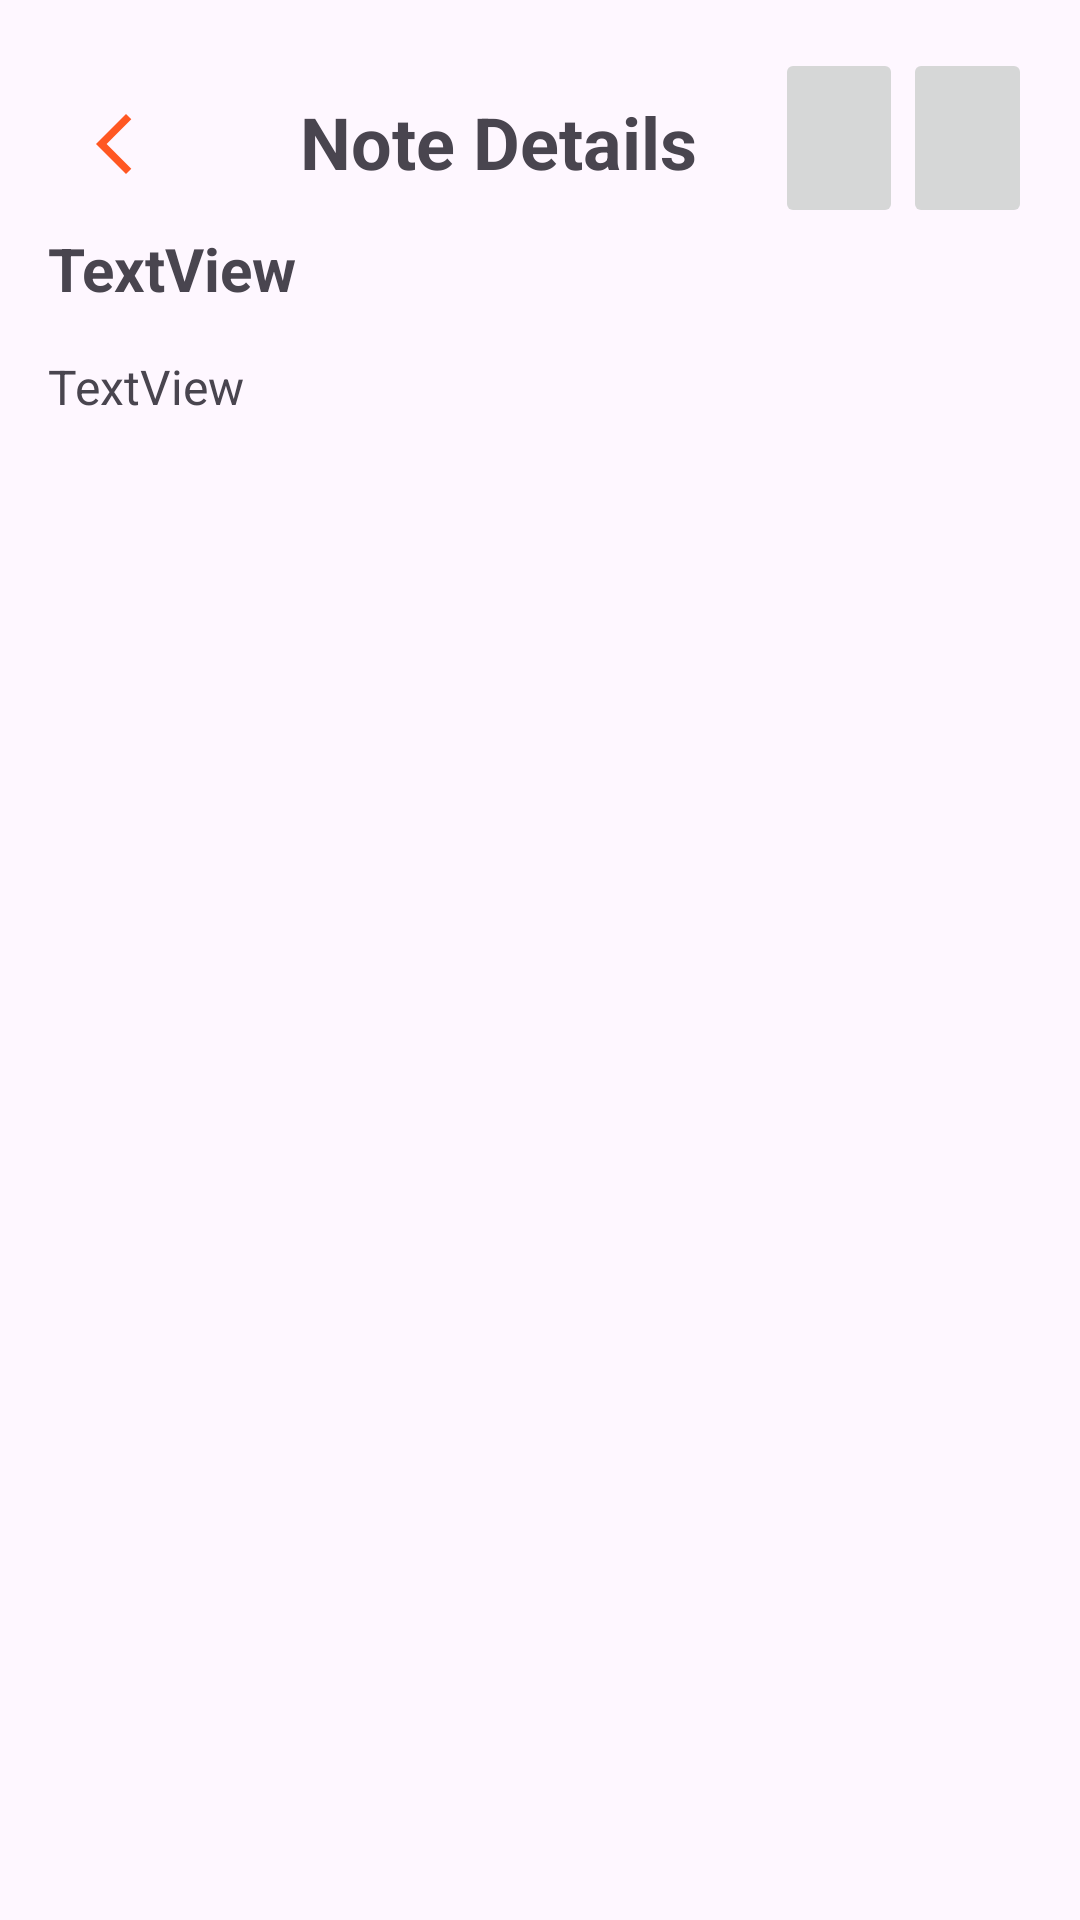

Icons on this 1080w x 1920h Android screen, each with the point to tap as (x,y):
back: (113,144)
